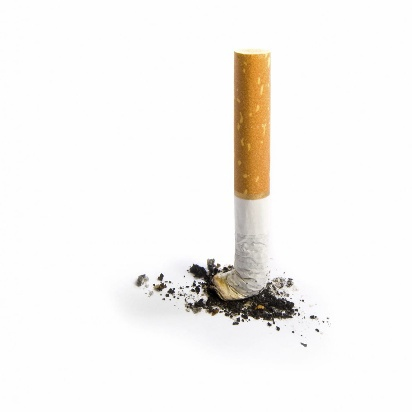cigarette: (203, 45, 275, 309)
